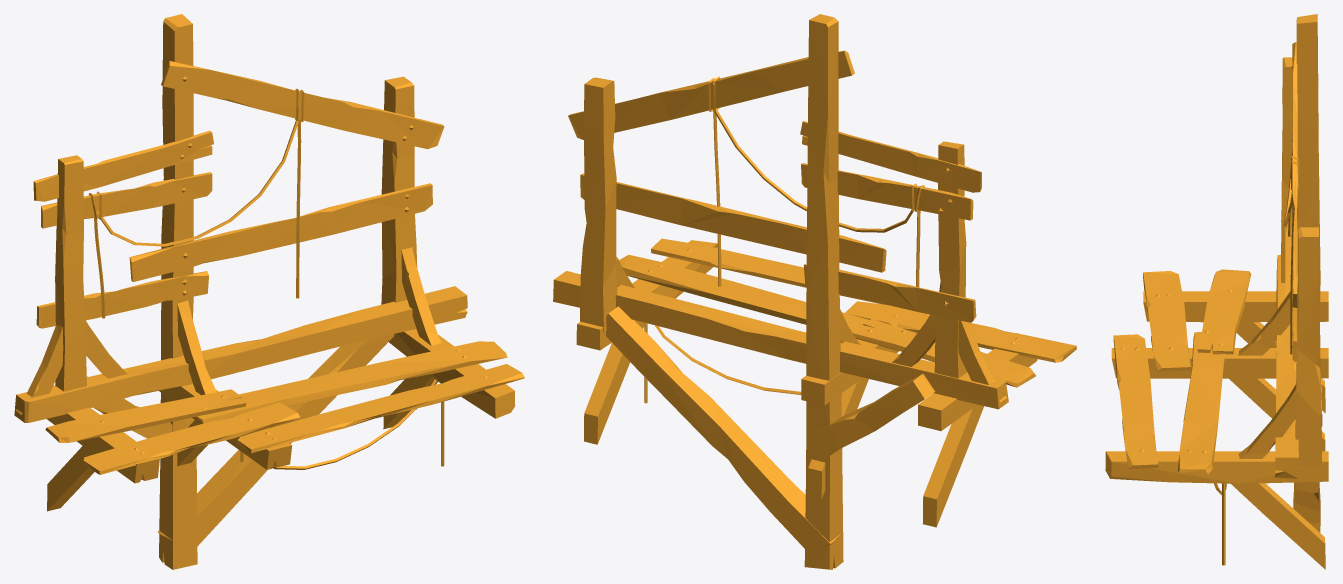
Rendered from SM_Scaffolding_C_Fantasy.fbx.
3 renders of one model, left to right at view 1: azimuth 30°, elevation 25°; view 2: azimuth 150°, elevation 25°; view 3: azimuth 270°, elevation 25°, orthographic. The views are drawn at different scales.
Parts seen in each view (by area): view 1: SM_Scaffolding_C_Fantasy; view 2: SM_Scaffolding_C_Fantasy; view 3: SM_Scaffolding_C_Fantasy.
Part boxes in pixels (x1=…): SM_Scaffolding_C_Fantasy: x1=14, y1=14, x2=524, y2=569; SM_Scaffolding_C_Fantasy: x1=553, y1=14, x2=1076, y2=569; SM_Scaffolding_C_Fantasy: x1=1105, y1=14, x2=1328, y2=569.
Size of the model in its own units: 4.05 by 4.74 by 1.86.
